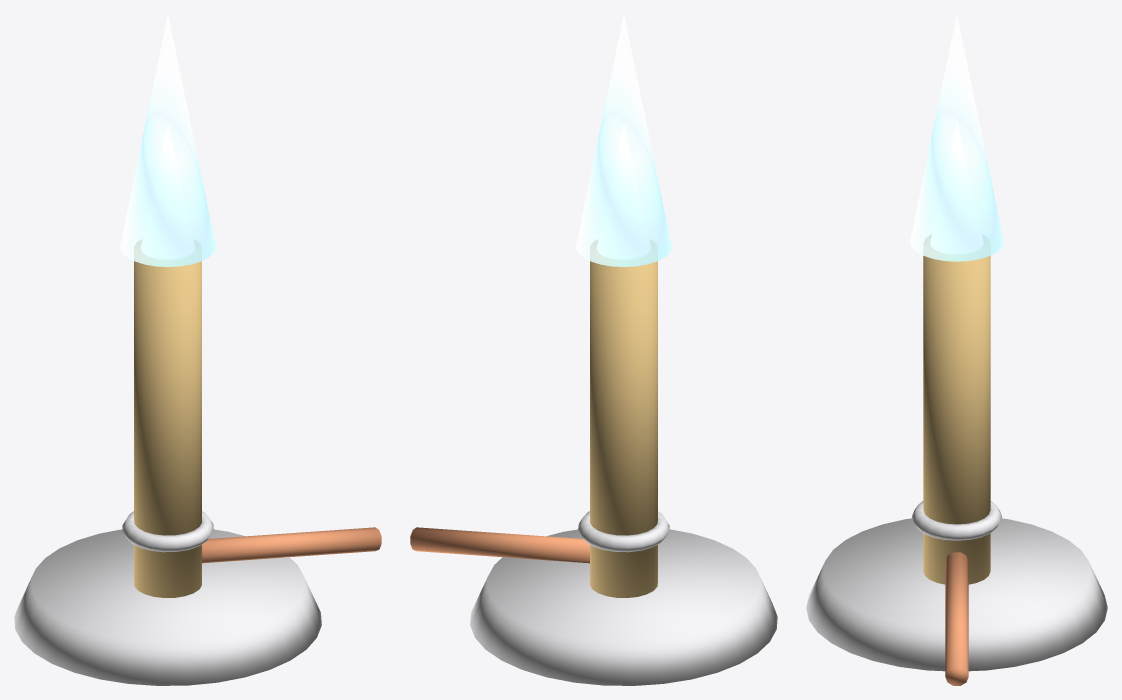
File: L09_Bunsen_Burner.glb
3 renders of one model, left to right at view 1: azimuth 30°, elevation 25°; view 2: azimuth 150°, elevation 25°; view 3: azimuth 270°, elevation 25°, orthographic. The views are drawn at different scales.
Parts seen in each view (by area): view 1: L09_Bunsen_Burner_Mesh; view 2: L09_Bunsen_Burner_Mesh; view 3: L09_Bunsen_Burner_Mesh.
Boxes of the visible parts, <box> form: L09_Bunsen_Burner_Mesh: <box>14,14,381,685</box>; L09_Bunsen_Burner_Mesh: <box>410,14,777,685</box>; L09_Bunsen_Burner_Mesh: <box>806,15,1107,685</box>.
Bounding box in the file's own units: 1.16 × 1.96 × 0.9.
